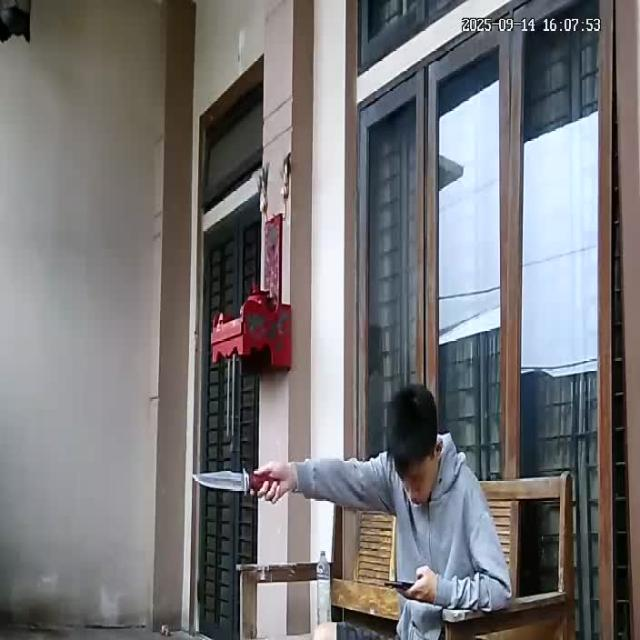senjata_tajam: (191, 466, 257, 497)
